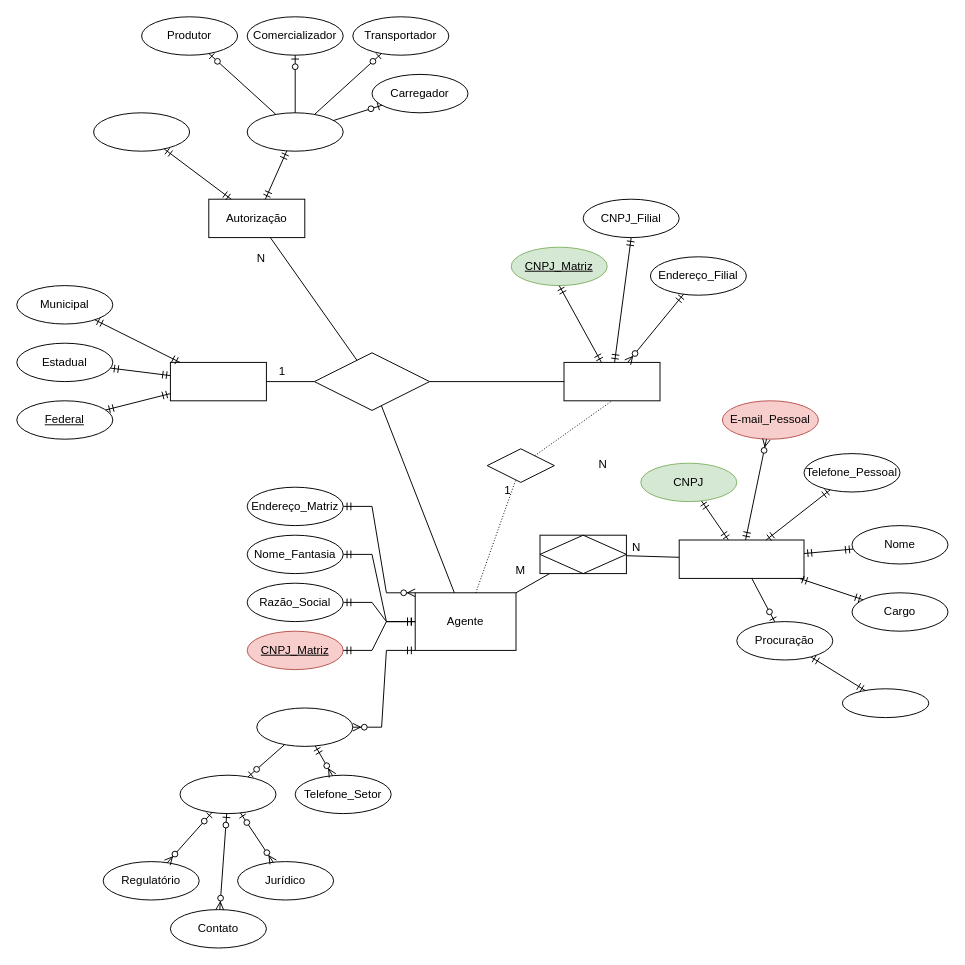
Some shapes in this 965 by 965 pixel diagram are drawn without their labels. The shapes that lost their labels are listed below. From the top down, each one's centre as x and y in pixels, then its label:
At point (141, 131): "ID_Autorização".
At point (294, 131): "Tipo de Autorização".
At point (217, 381): "Registro".
At point (371, 381): "Possui".
At point (611, 381): "Filial".
At point (520, 465): "Contém".
At point (582, 554): "Representa".
At point (741, 558): "Representante".
At point (885, 703): "Validade".
At point (304, 726): "Comunicação".
At point (227, 794): "E-mail_Setor".
